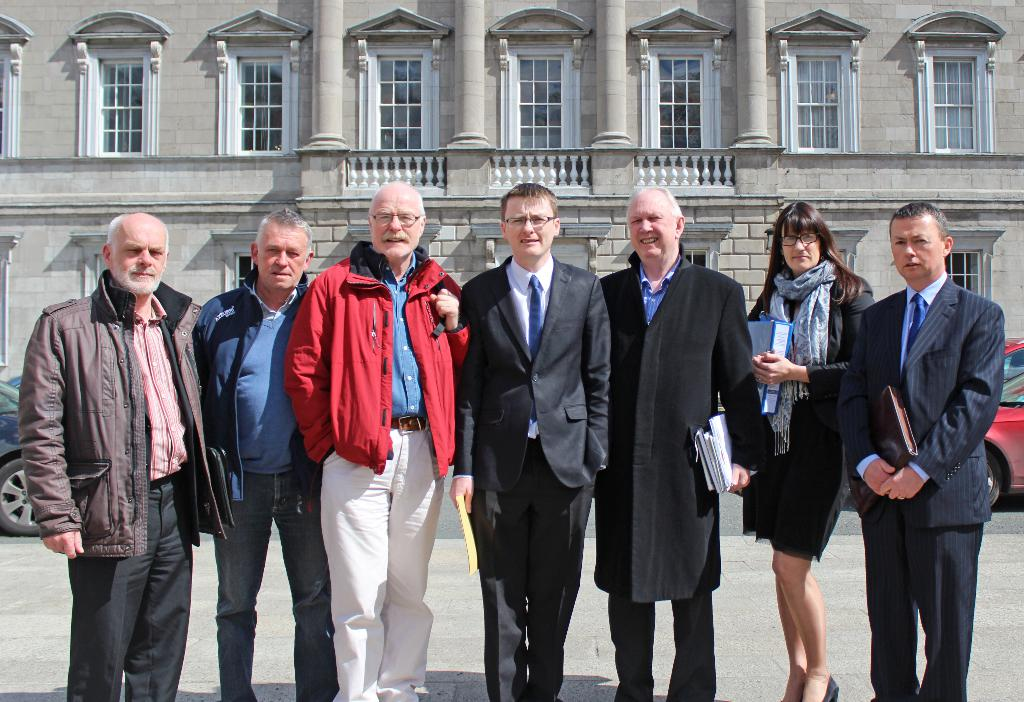Footwear: (818, 676, 842, 701)
